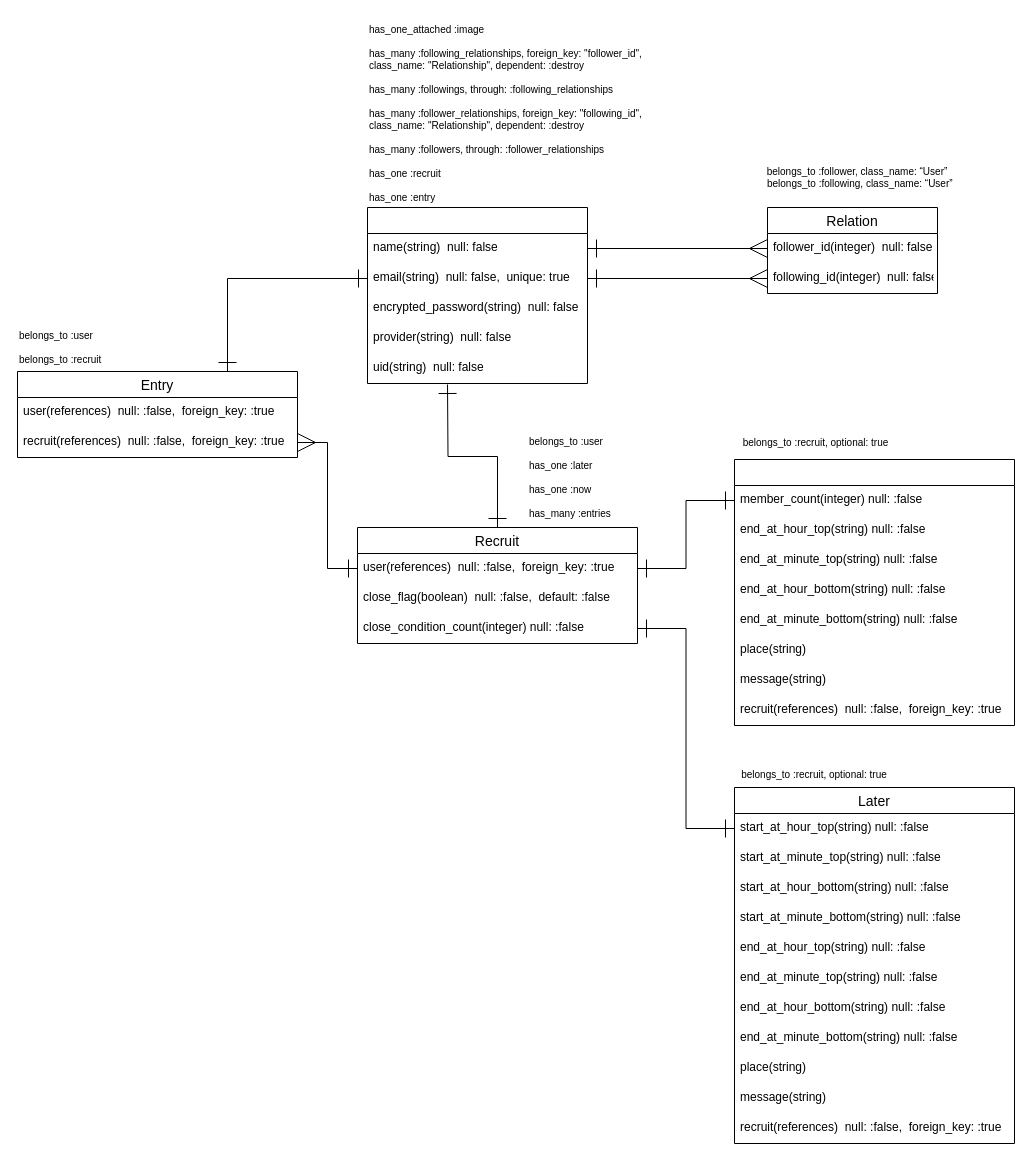
Image size: 1032x1163. Some labels were removed from this diagram. The shapes that lost their labels are listed below. From the top down, each one's box as (x1, y1, x2, y2) in pixels, then its label:
(366, 206, 588, 384): User
(734, 458, 1014, 726): Now
